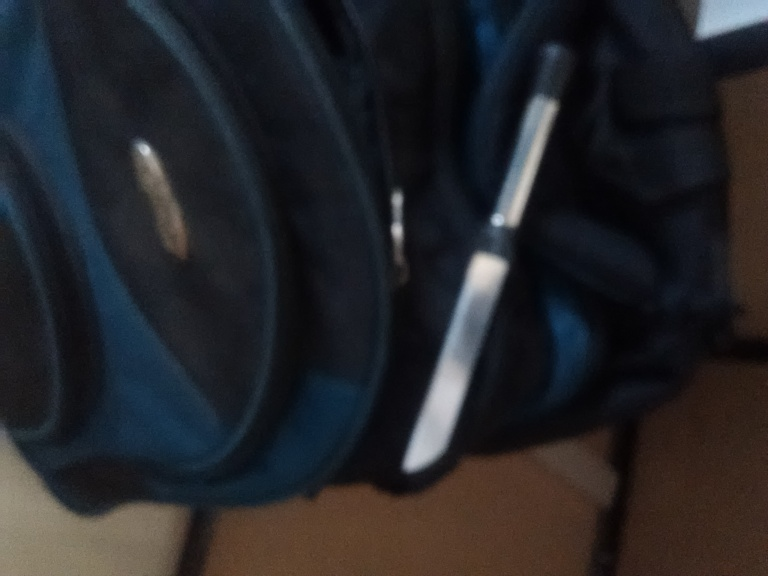knife: (394, 42, 580, 477)
